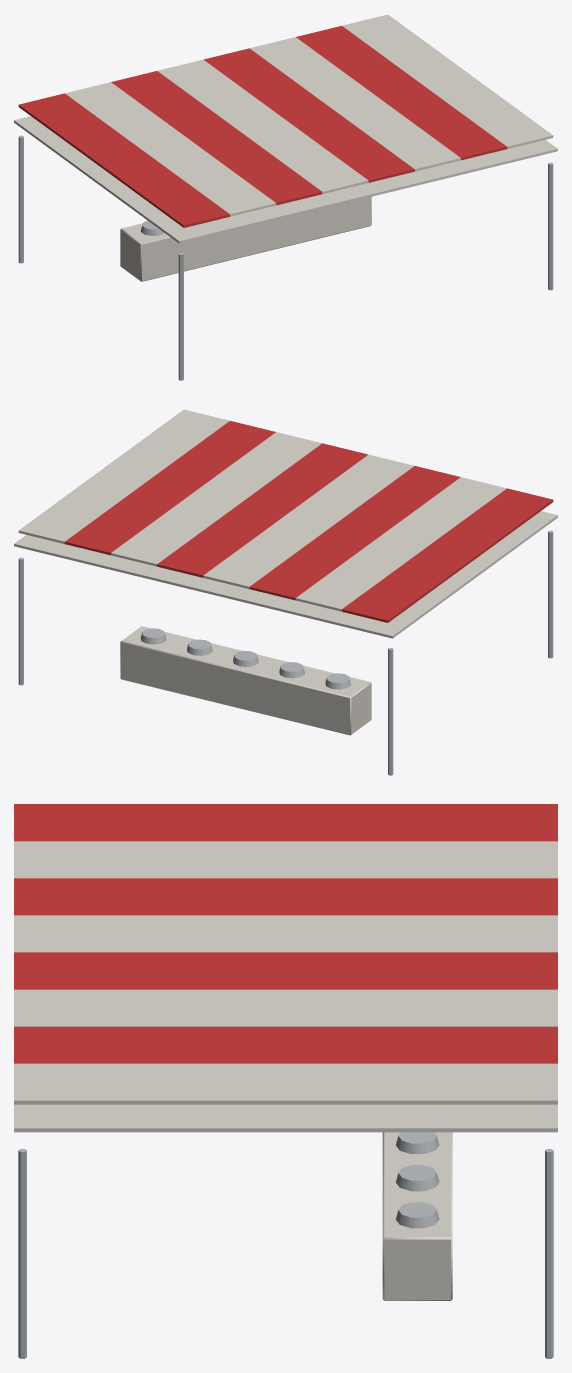
File: catering_tent.glb
3 views of the same model, one above another, from view 1: azimuth 30°, elevation 25°; view 2: azimuth 150°, elevation 25°; view 3: azimuth 270°, elevation 25° (orthographic). The views are drawn at different scales.
Visible parts, largest first — view 1: catering_tent; view 2: catering_tent; view 3: catering_tent.
Boxes of the visible parts, bbox=[...] form: catering_tent: bbox=[14, 14, 557, 380]; catering_tent: bbox=[14, 409, 557, 775]; catering_tent: bbox=[14, 804, 557, 1358].
Bounding box in the file's own units: 8.2 × 3.23 × 6.2.
